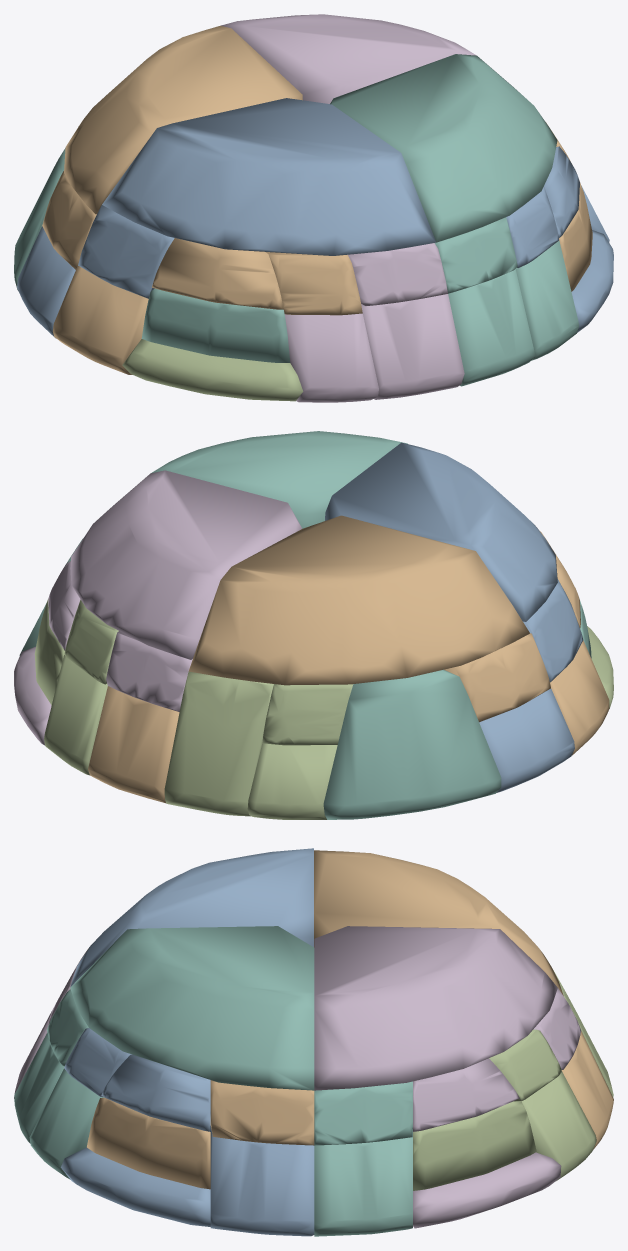
The picture shows the model from 3 angles, top to bottom: view 1: azimuth 30°, elevation 25°; view 2: azimuth 150°, elevation 25°; view 3: azimuth 270°, elevation 25°; orthographic projection.
Bounding box in the file's own units: 1.91 × 0.6716 × 1.91.
